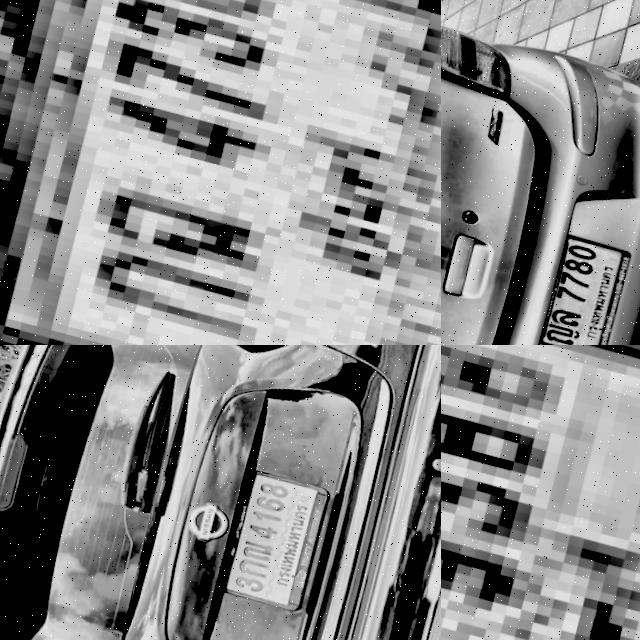license-plate: (0, 0, 441, 345), (441, 345, 640, 640), (209, 456, 342, 616), (533, 223, 640, 345)
